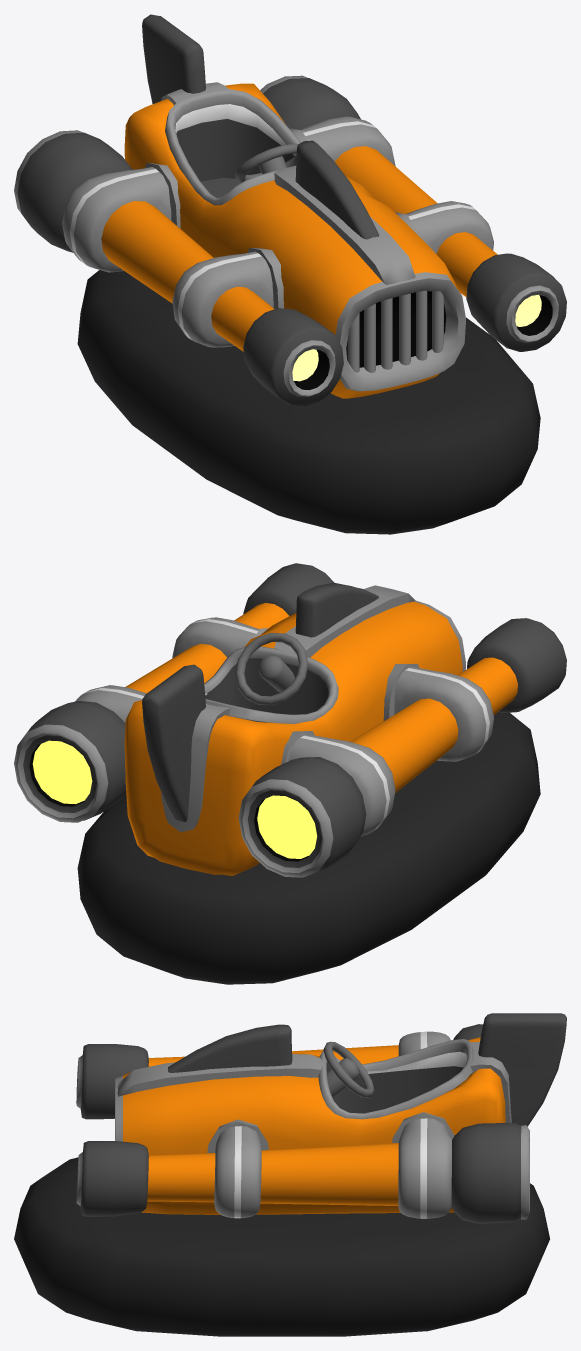
File: mesh_Car_InGame_G.fbx
3 views of the same model, one above another, from view 1: azimuth 30°, elevation 25°; view 2: azimuth 150°, elevation 25°; view 3: azimuth 270°, elevation 25° (orthographic). The views are drawn at different scales.
Visible parts, largest first — view 1: mesh_Car_InGame_G; view 2: mesh_Car_InGame_G; view 3: mesh_Car_InGame_G.
Part boxes in pixels (bbox=[...]): mesh_Car_InGame_G: bbox=[14, 14, 566, 534]; mesh_Car_InGame_G: bbox=[14, 563, 566, 984]; mesh_Car_InGame_G: bbox=[14, 1013, 566, 1336].
Size of the model in its own units: 1.85 by 1.69 by 3.07.
